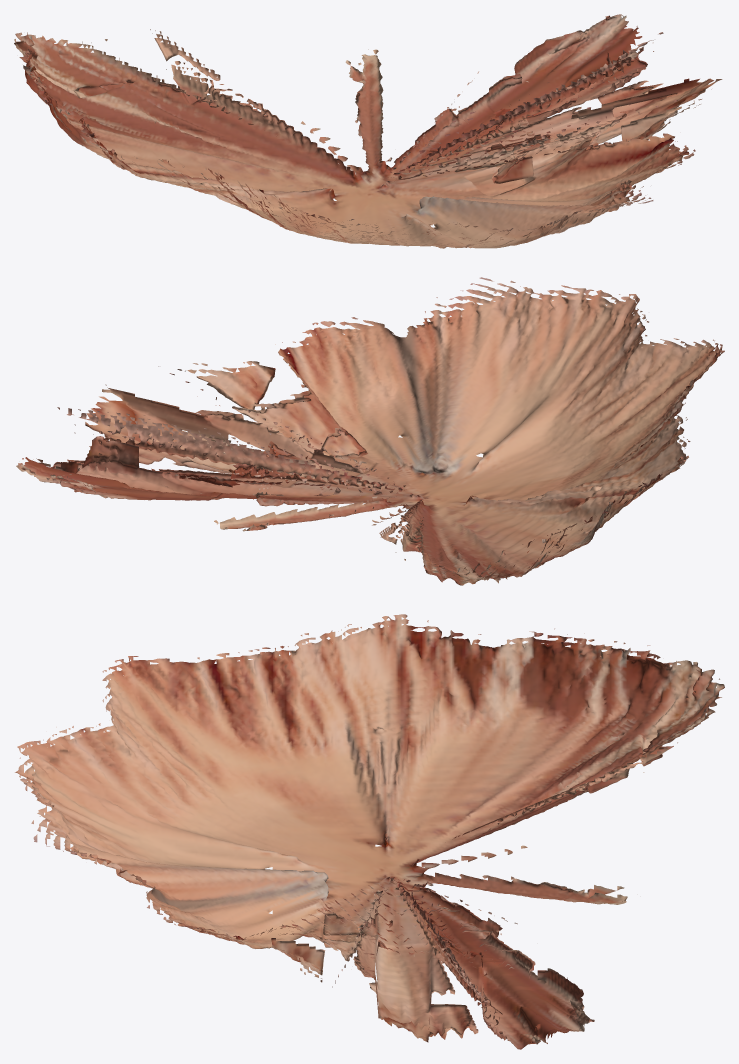
The model's file is Mars Rover Crash Site_collider.glb.
The picture shows the model from 3 angles, top to bottom: view 1: azimuth 30°, elevation 25°; view 2: azimuth 150°, elevation 25°; view 3: azimuth 270°, elevation 25°; orthographic projection. The views are drawn at different scales.
Visible parts, largest first — view 1: world; view 2: world; view 3: world.
Boxes of the visible parts, bbox=[...] form: world: bbox=[14, 14, 722, 248]; world: bbox=[16, 277, 724, 585]; world: bbox=[15, 614, 724, 1049].
Size of the model in its own units: 103 by 19.84 by 96.12.
